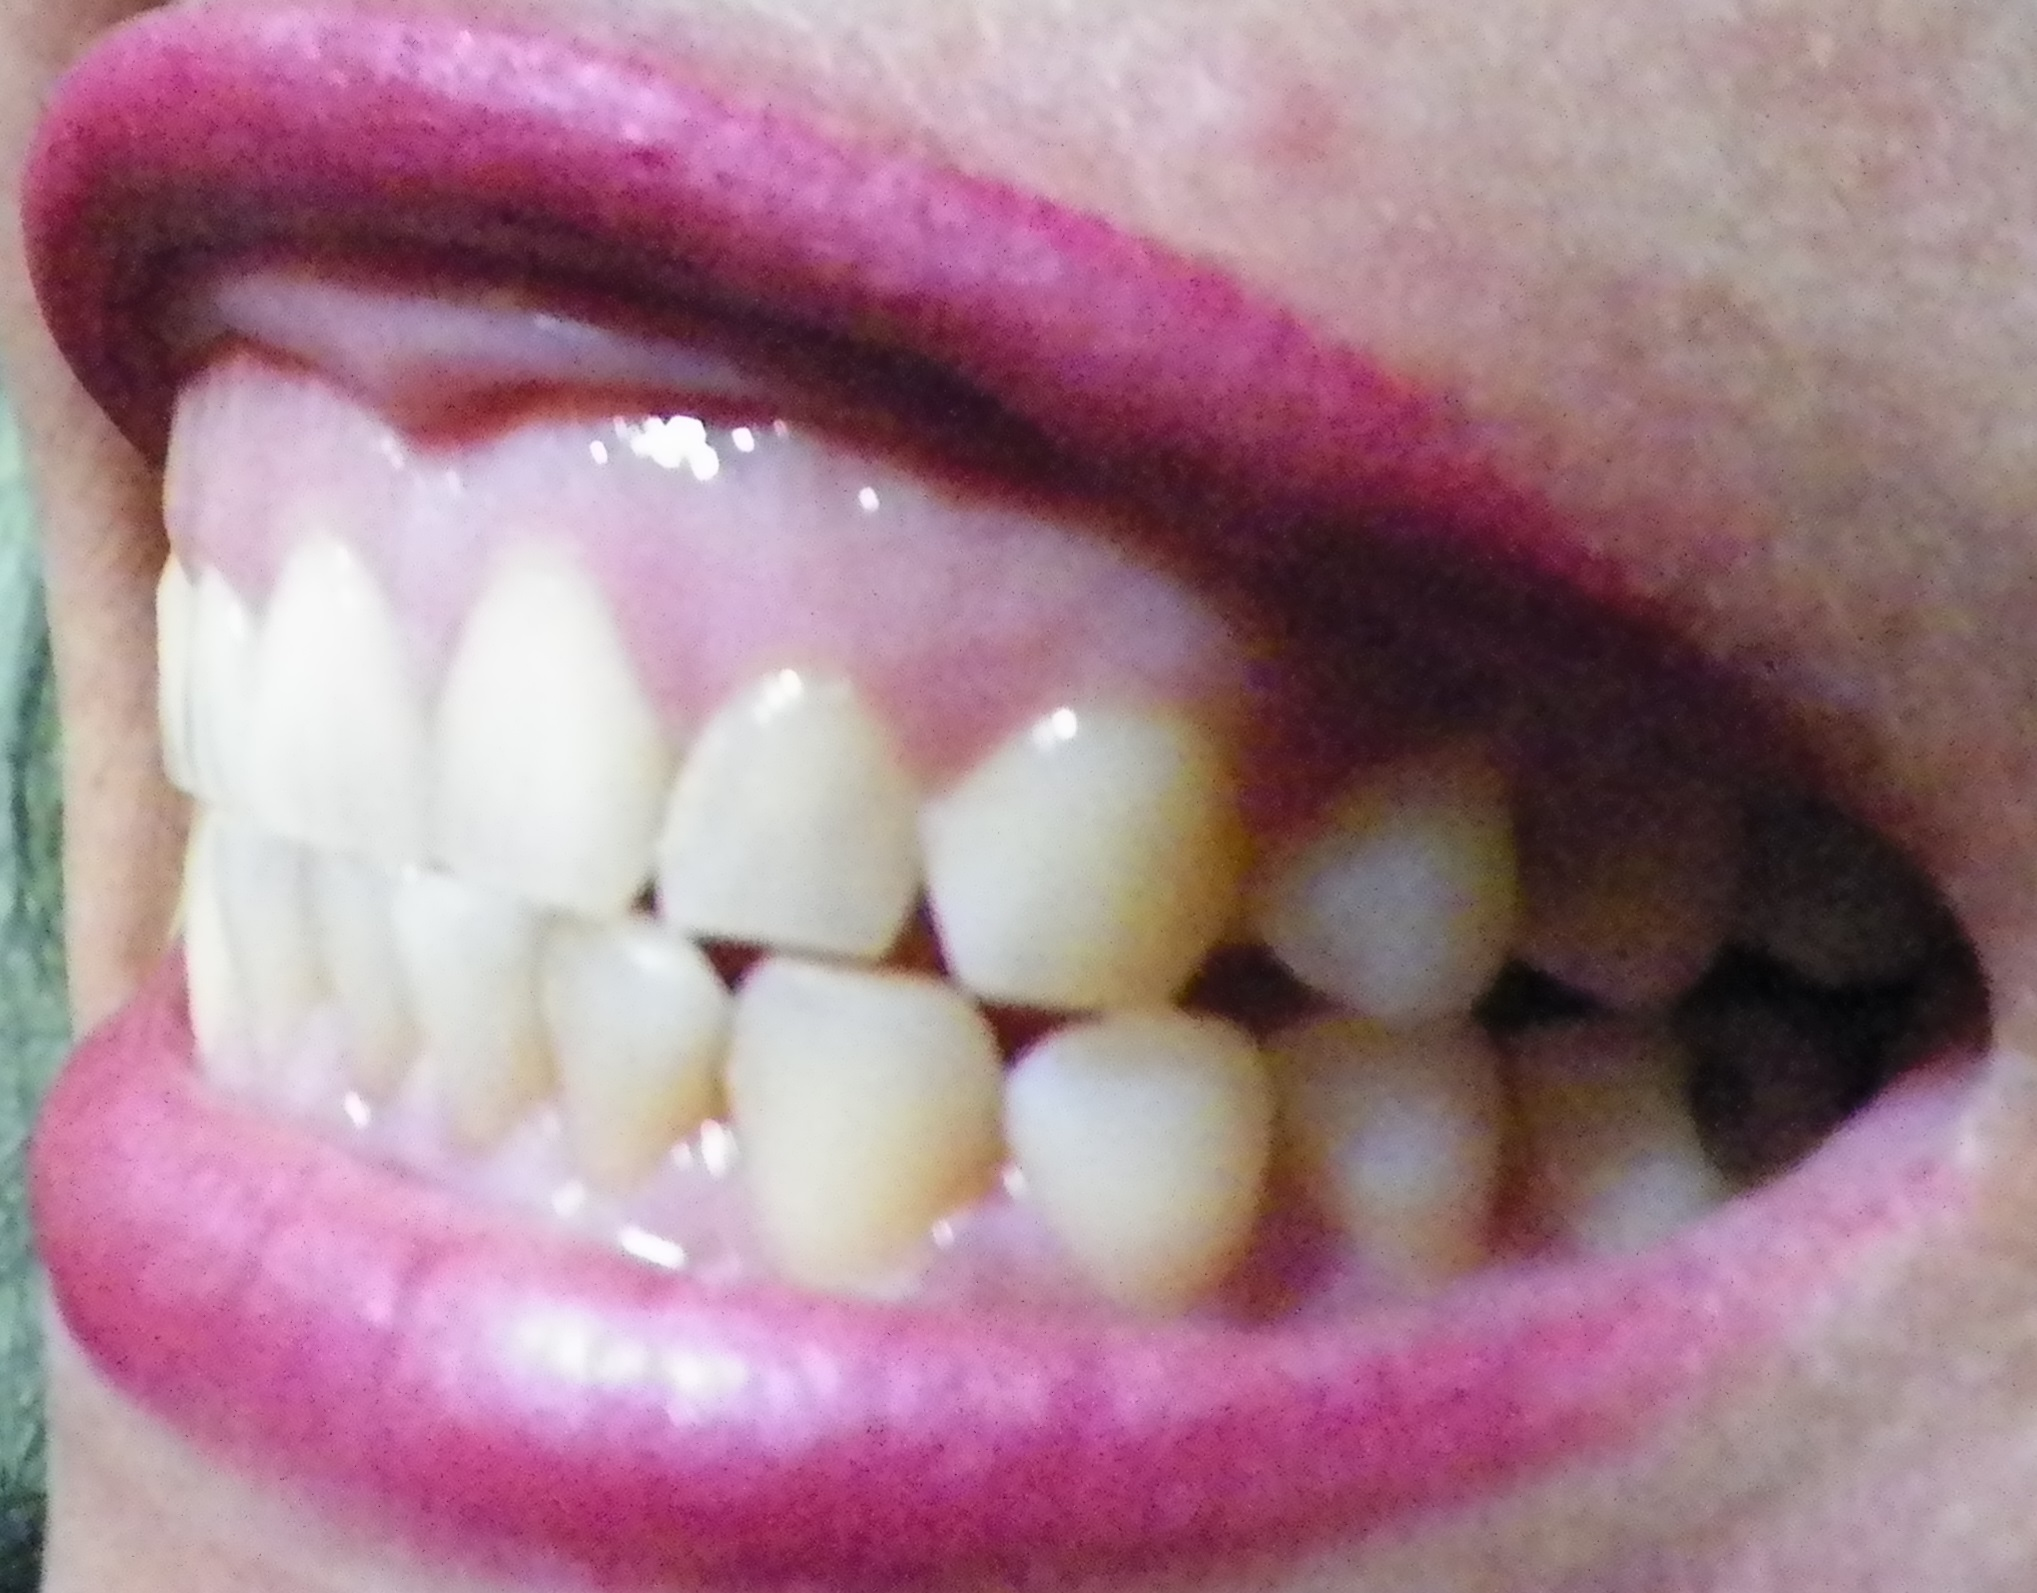boca: (139, 523, 1865, 1259)
